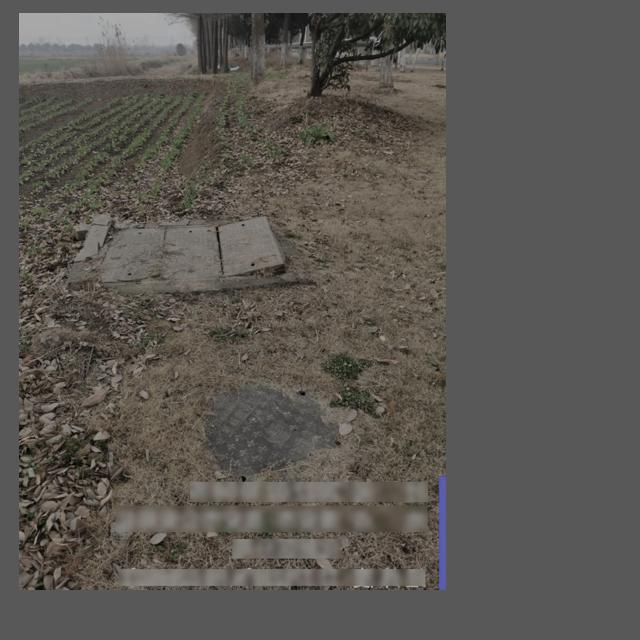uncovered: (131, 204, 301, 308)
